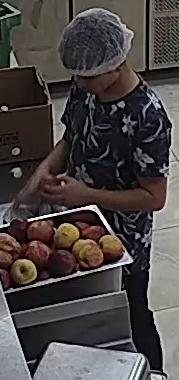no_apron: (56, 43, 150, 233)
